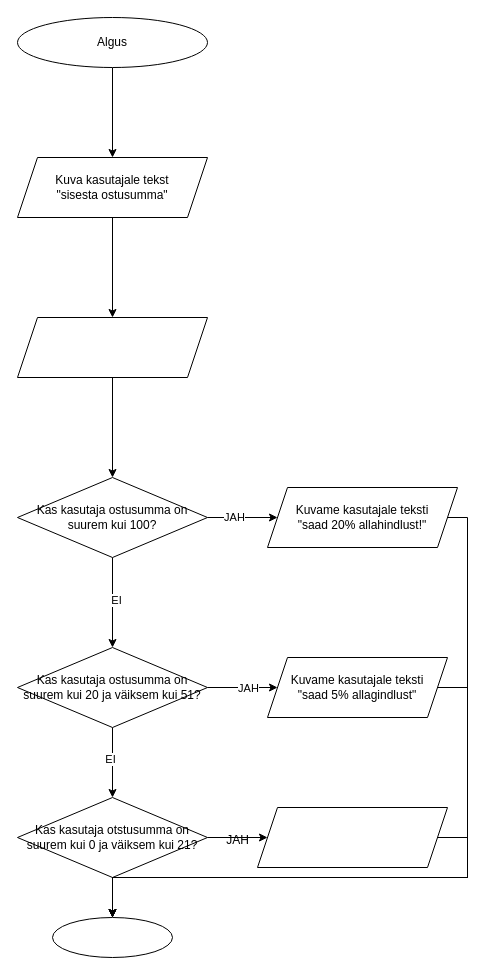
Image size: 493x975. Some labels were removed from this diagram. The shapes that lost their labels are listed below. From the top down, each one's box as (x1, y1, x2, y2) in pixels, then its label:
(16, 316, 208, 378): tekitame muutuja "ostusumma" mille sisse loeme väärtuse kasutajalt
(256, 806, 448, 868): Kuvame kasutajale teksti "allahindlust ei saa"
(52, 916, 172, 958): Lõpp
